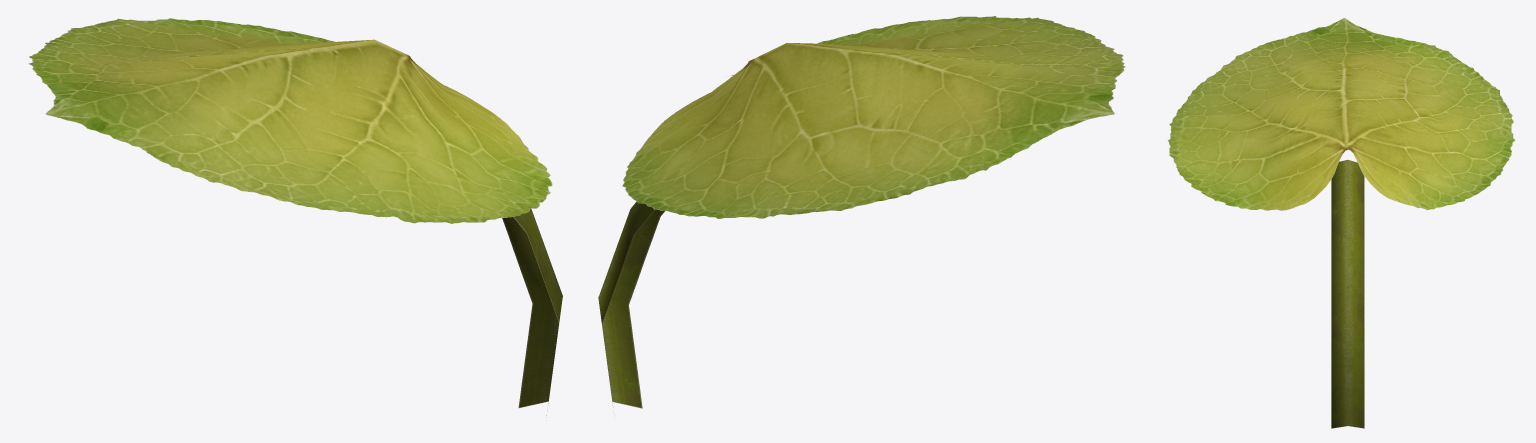
The model's file is Round3.fbx.
3 renders of one model, left to right at view 1: azimuth 30°, elevation 25°; view 2: azimuth 150°, elevation 25°; view 3: azimuth 270°, elevation 25°, orthographic. The views are drawn at different scales.
Visible parts, largest first — view 1: Round3; view 2: Round3; view 3: Round3.
Part boxes in pixels (x1,y1,x2,y2): Round3: (28,18,562,415); Round3: (598,16,1125,408); Round3: (1167,18,1515,428).
Size of the model in its own units: 0.6752 by 0.5211 by 0.634.
